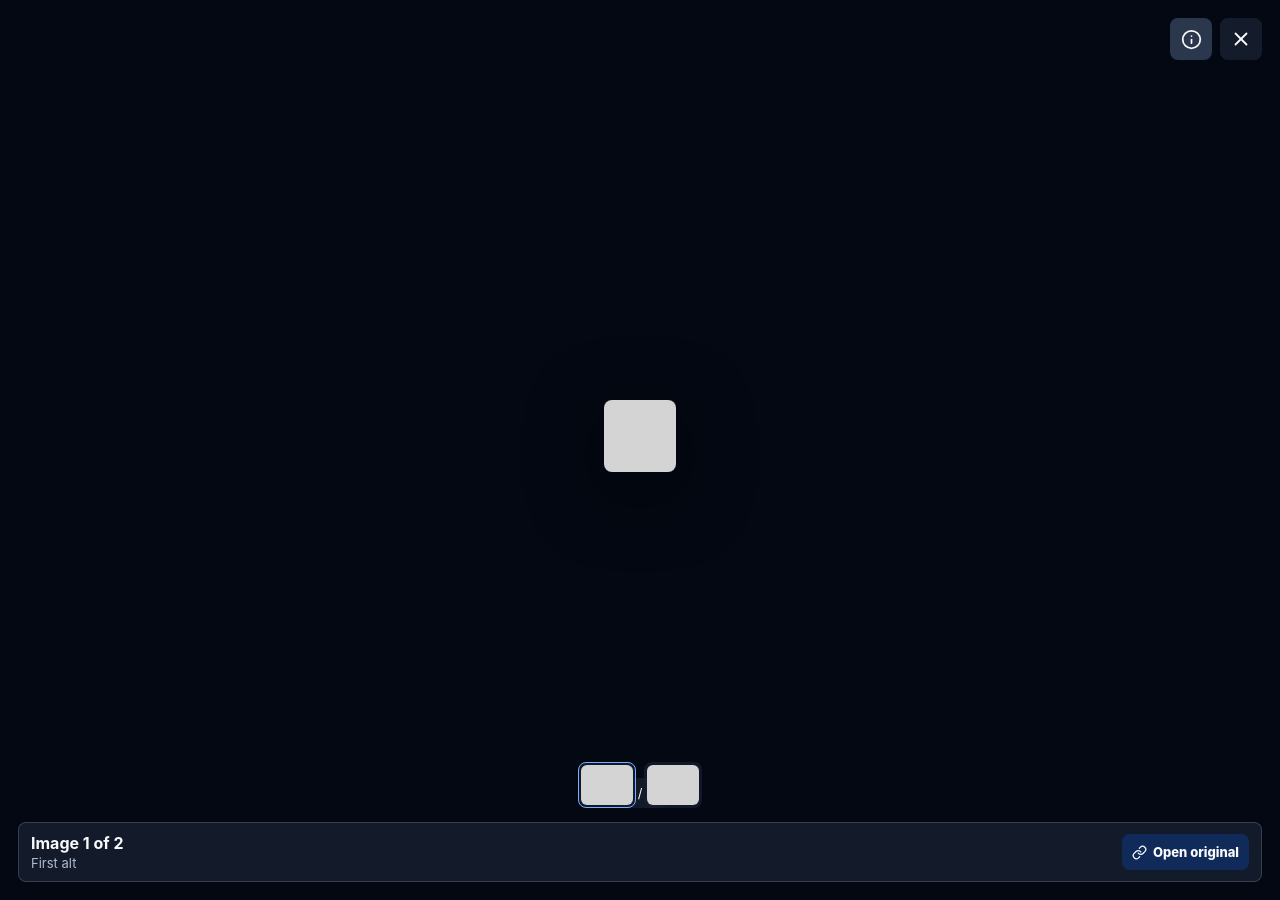
ImageViewer › toggles the info footer with the info button
This screenshot has width=1280, height=900.
Expected: the link "Open original" is shown, [1122,834,1249,870]
Click the button named "Hide image information" at (1191, 39), box [1170,18,1212,60]
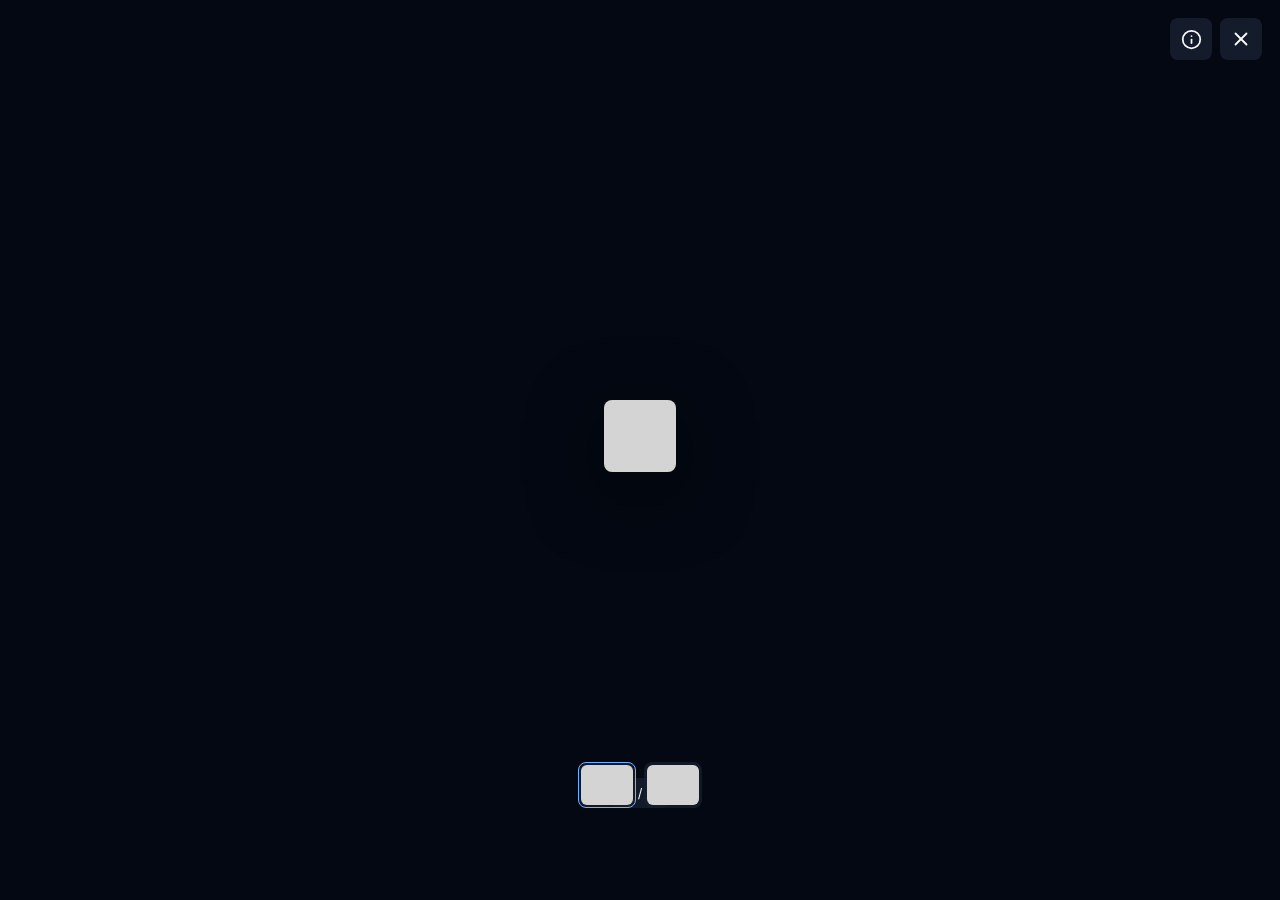
Result: the link "Open original" is gone
Click the button named "Show image information" at (1191, 39), box [1170,18,1212,60]
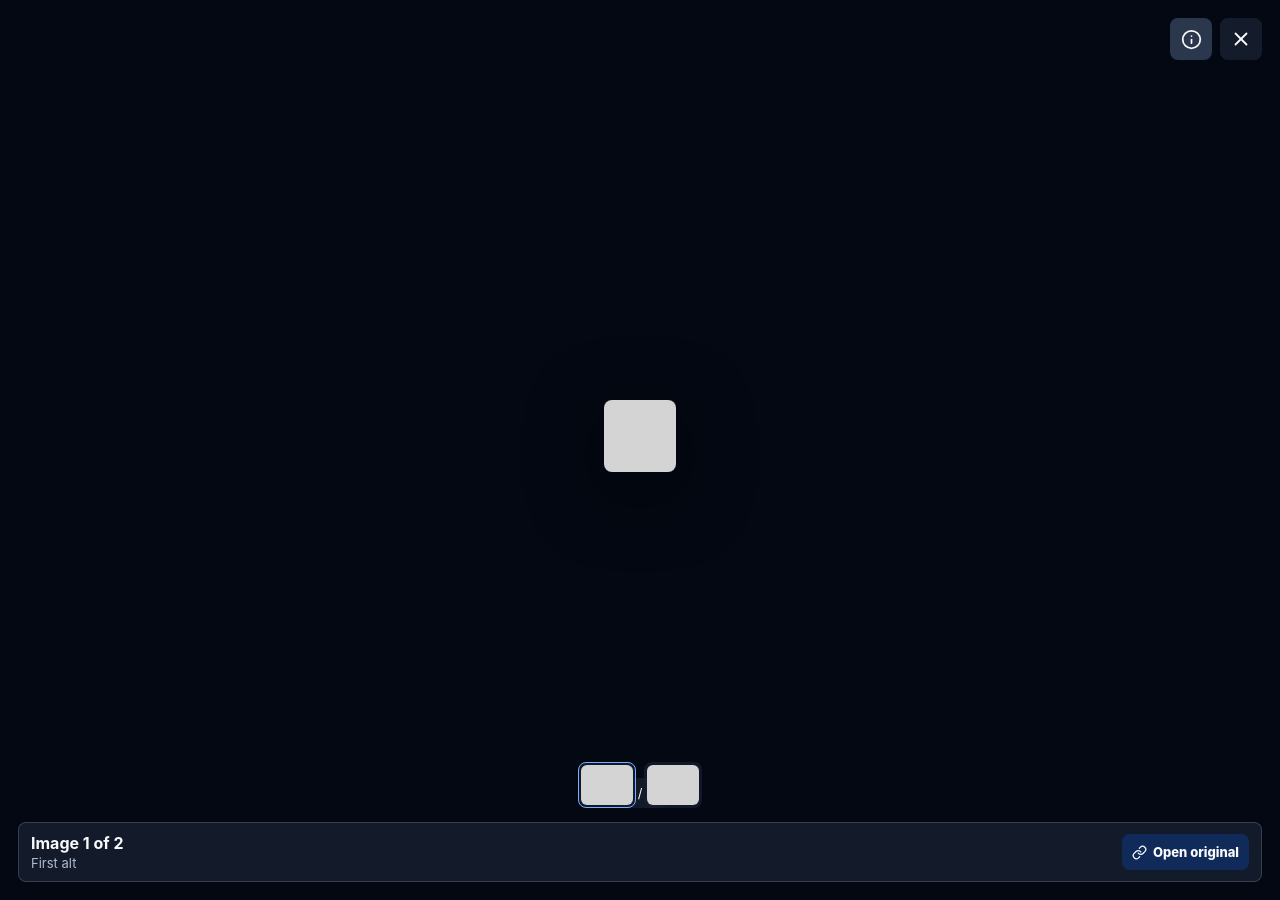
Result: the link "Open original" is shown at [1122,834,1249,870]
